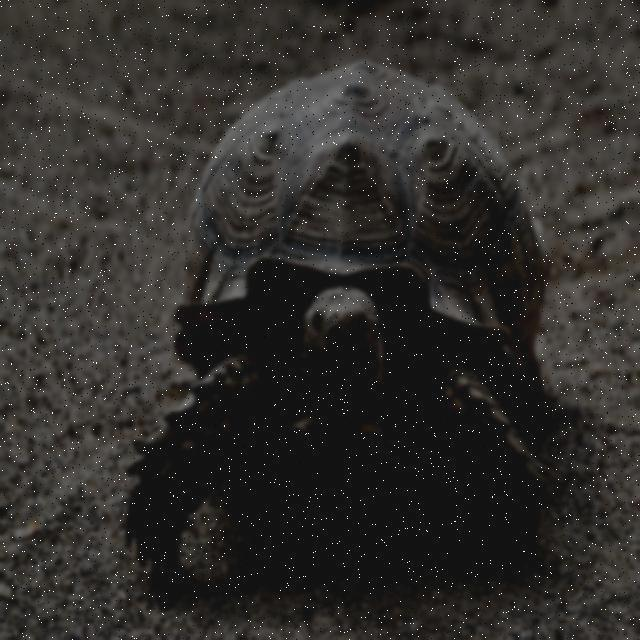tortoise: (157, 52, 578, 468)
